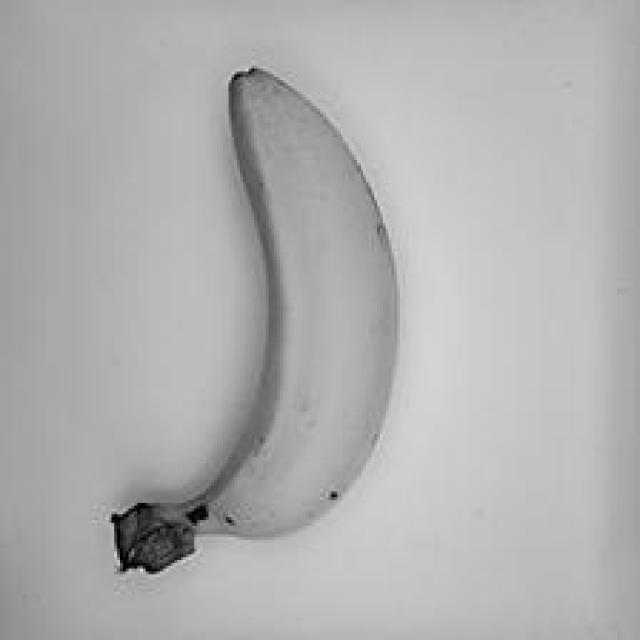Ripe: (66, 47, 434, 585)
